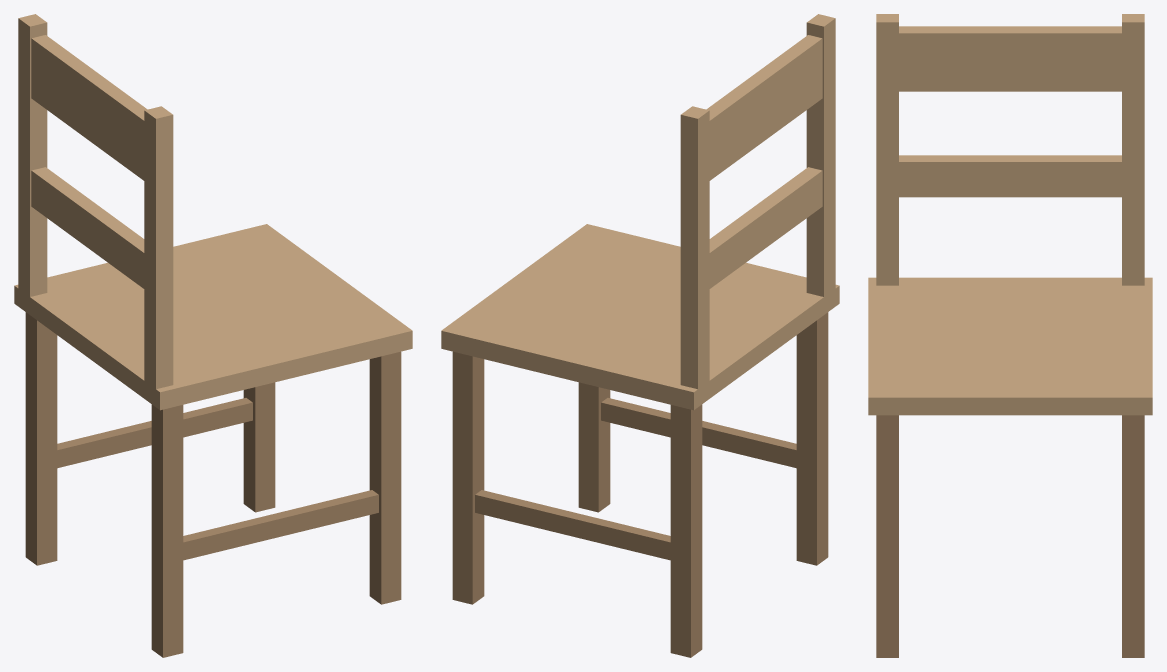
Rendered from dining_chair.glb.
The picture shows the model from 3 angles, left to right: view 1: azimuth 30°, elevation 25°; view 2: azimuth 150°, elevation 25°; view 3: azimuth 270°, elevation 25°; orthographic projection. The views are drawn at different scales.
Bounding box in the file's own units: 0.44 × 0.9 × 0.44.
